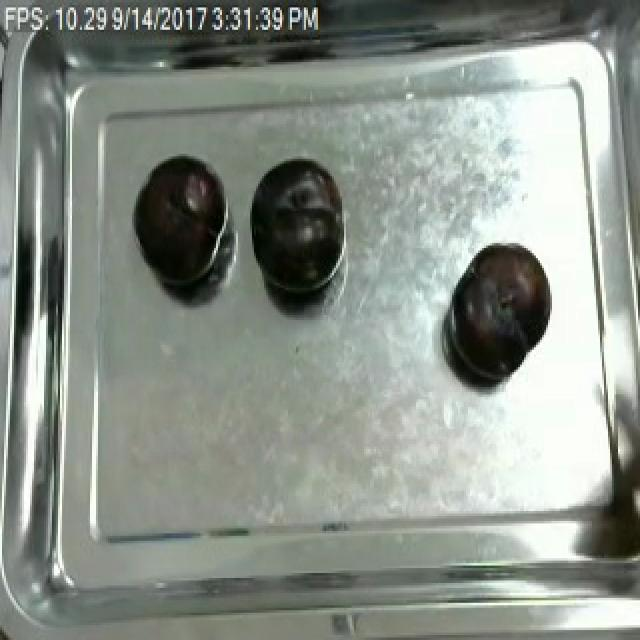Fruit: (444, 238, 554, 390), (248, 154, 344, 305), (130, 154, 228, 293)
